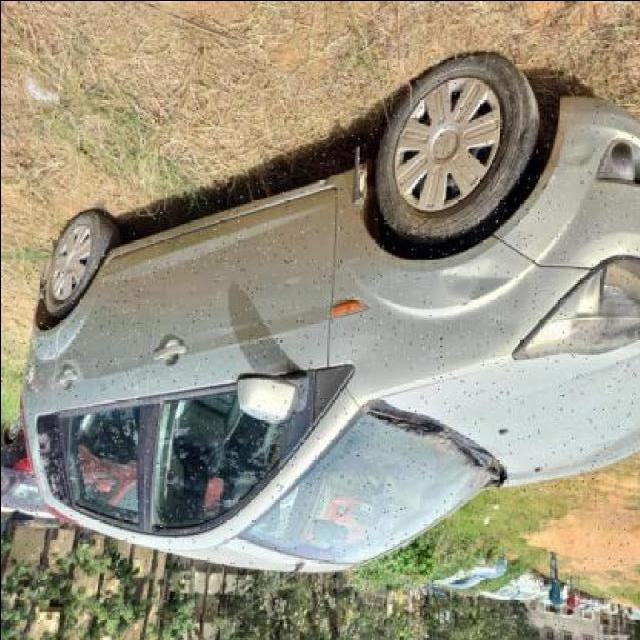fender-dent: (329, 211, 529, 357)
front-bumper-dent: (531, 95, 640, 267)
